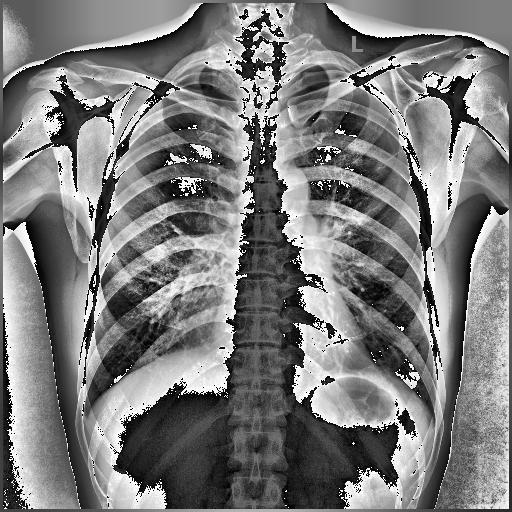10- Pleural effusion: (76, 407, 92, 424)
11- Pleural thickening: (193, 58, 239, 75), (197, 56, 237, 70), (76, 407, 92, 424)
13- Pulmonary fibrosis: (380, 146, 406, 172), (376, 148, 404, 172), (380, 147, 404, 169)
